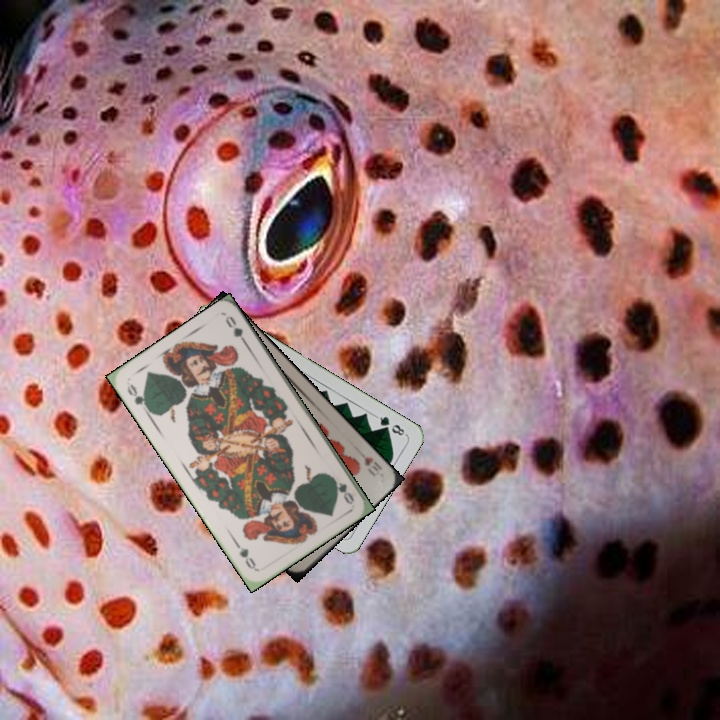G8: (372, 412, 409, 438)
GO: (326, 471, 357, 507), (123, 380, 152, 416)
H10: (360, 453, 384, 479)
